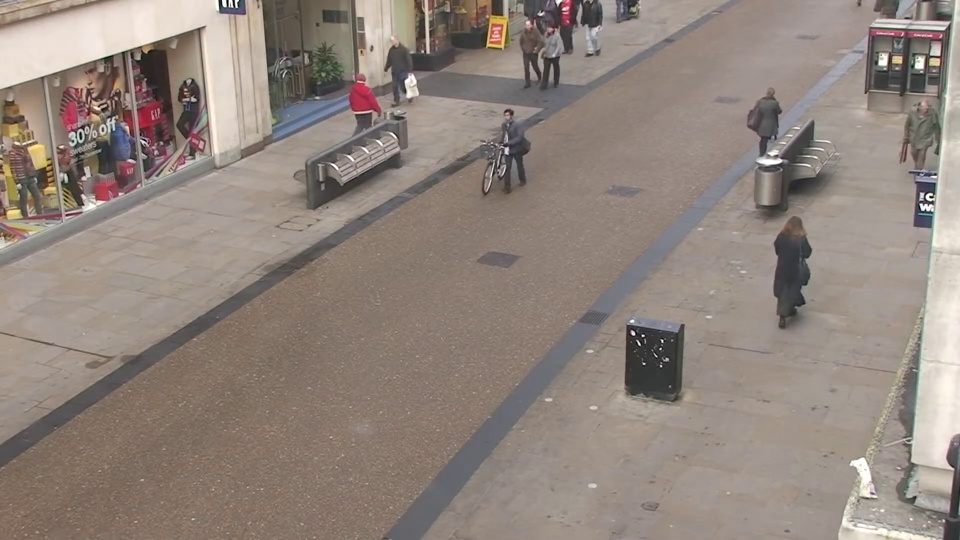pedestrian: (772, 203, 816, 323), (897, 96, 941, 191), (489, 106, 521, 200), (753, 82, 785, 170), (353, 66, 382, 146), (378, 34, 404, 107), (536, 22, 560, 92), (515, 17, 539, 85)
